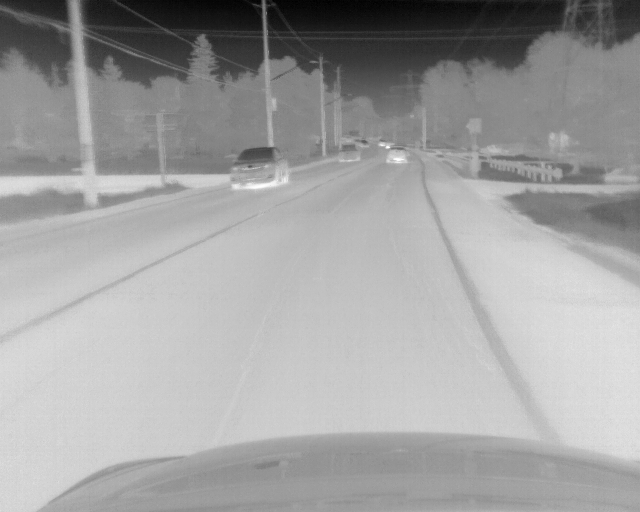car: (231, 146, 289, 188), (338, 143, 361, 163), (385, 146, 407, 164), (357, 139, 368, 148), (378, 139, 385, 147)
